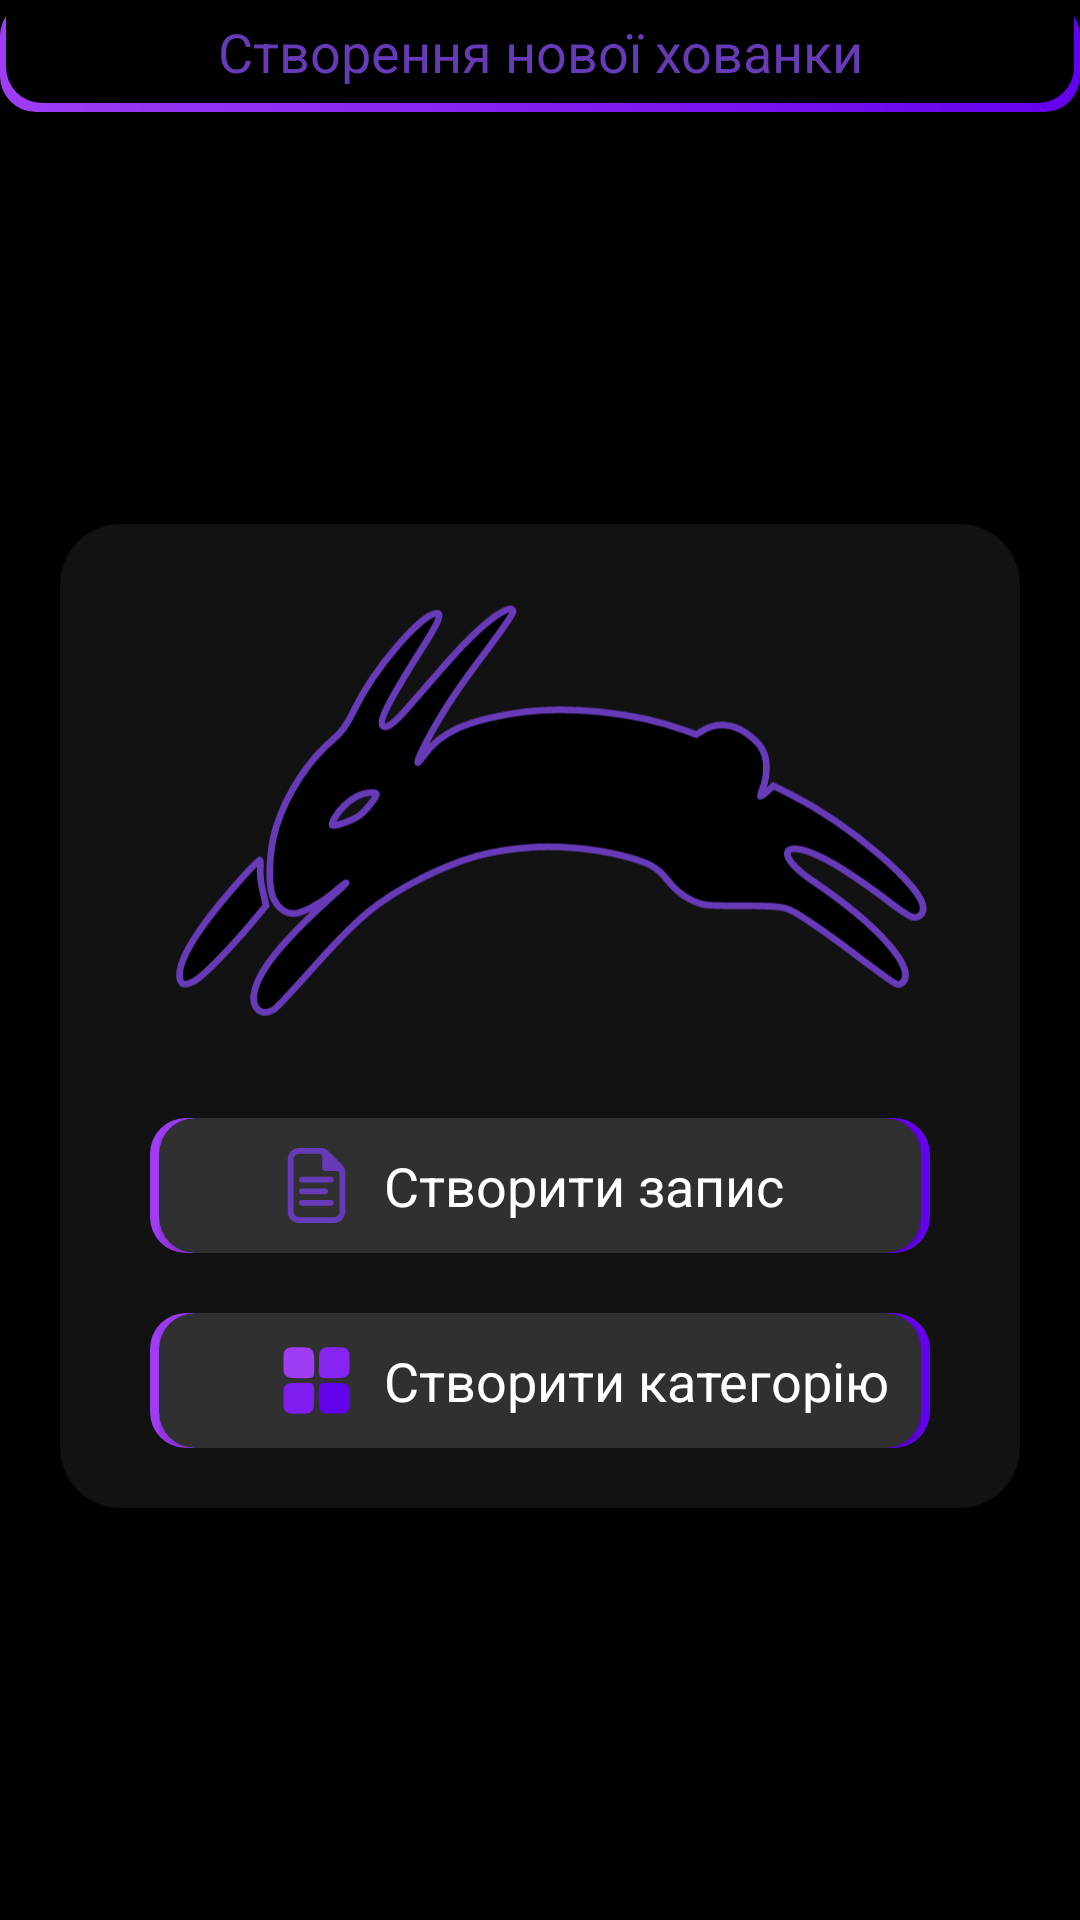

Where icons sit on this 1080*1920 app screen, as (x1, y1, x2, y2):
category: (283, 1347, 350, 1414)
file: (287, 1148, 346, 1223)
